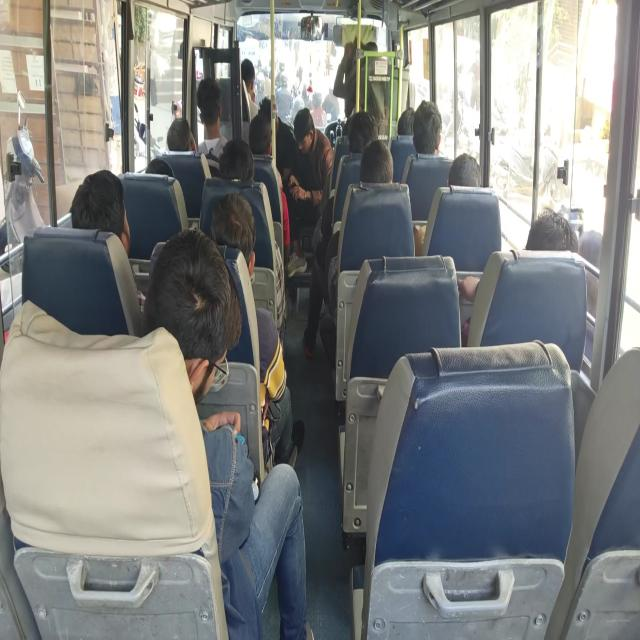person: (141, 227, 313, 639), (210, 192, 303, 466), (302, 138, 394, 360), (456, 207, 578, 345), (248, 112, 307, 276), (525, 207, 601, 319), (287, 106, 333, 274), (70, 168, 130, 258), (196, 76, 228, 160), (525, 207, 578, 252), (412, 99, 442, 155), (218, 138, 254, 182), (359, 139, 393, 184), (345, 110, 376, 154), (448, 152, 482, 187), (241, 58, 259, 123), (166, 117, 196, 151), (310, 92, 328, 130), (397, 107, 415, 135)
